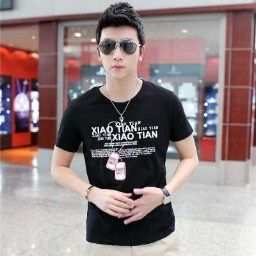face: (95, 2, 146, 80)
